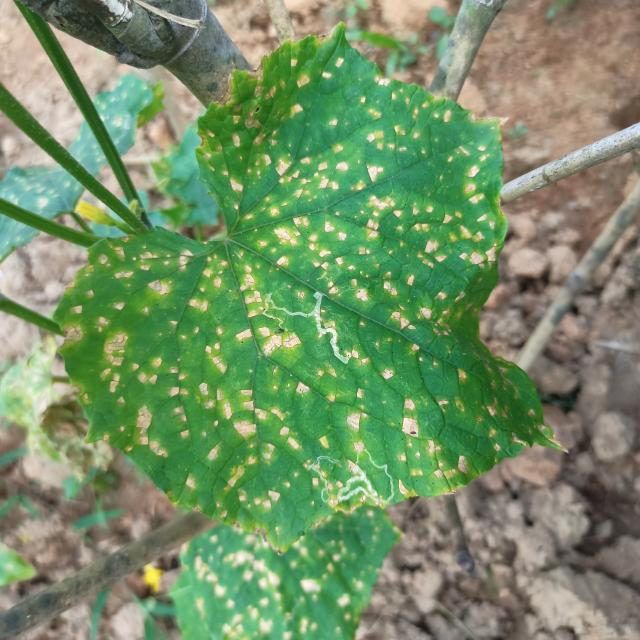disease_cucumber: (68, 67, 520, 536)
